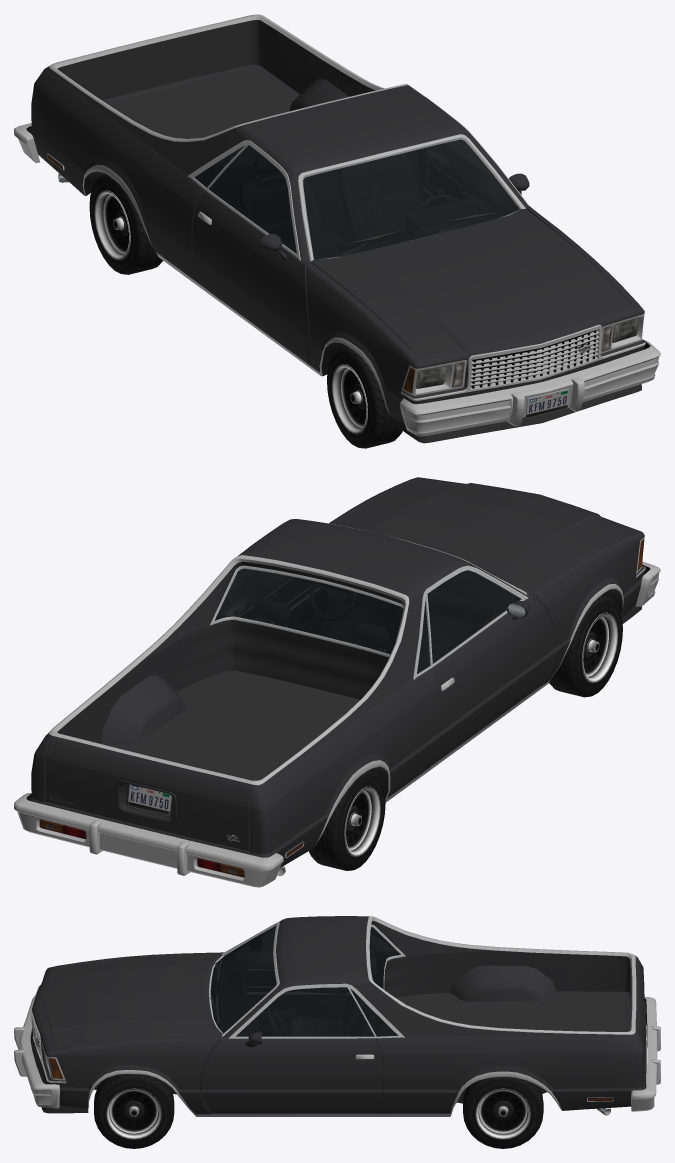
File: elalamo.glb
3 renders of one model, top to bottom at view 1: azimuth 30°, elevation 25°; view 2: azimuth 150°, elevation 25°; view 3: azimuth 270°, elevation 25°, orthographic. The views are drawn at different scales.
Visible parts, largest first — view 1: ElAlamo78_Body_ElAlamo78_Bodymat_0, ElAlamo78_Hood_ElAlamo78_Bodymat_0, ElAlamo78_Interior_UCB_Interiors_2_0, ElAlamo78_Bottom_UCB_BOTTOM_0, ElAlamo78_Windshield_UCB_Lights_and_Glass_Transperent_0, ElAlamo78_Bumper_Front_UCB_BOTTOM_0, ElAlamo78_Trunkdoor_ElAlamo78_Bodymat_0, wheel_FR, ElAlamo78_Glass_Driver001_UCB_Lights_and_Glass_Transperent_0, wheel_RR, ElAlamo78_Headlights_UCB_Lights_and_Glass_Transperent_0, ElAlamo78_Headlights001_UCB_Lights_and_Glass_0 (+2 smaller); view 2: ElAlamo78_Body_ElAlamo78_Bodymat_0, ElAlamo78_Hood_ElAlamo78_Bodymat_0, ElAlamo78_Interior_UCB_Interiors_2_0, ElAlamo78_Trunkdoor_ElAlamo78_Bodymat_0, ElAlamo78_Bottom_UCB_BOTTOM_0, ElAlamo78_Rear_Glass_UCB_Lights_and_Glass_Transperent_0, ElAlamo78_Bumper_Rear_UCB_BOTTOM_0, wheel_RR, ElAlamo78_Glass_Driver001_UCB_Lights_and_Glass_Transperent_0, wheel_FR, ElAlamo78_Trunkdoor_Inner_UCB_BOTTOM_0, ElAlamo78_Numberplate_Rear_Numberplates_Misk_U_0 (+1 smaller); view 3: ElAlamo78_Body_ElAlamo78_Bodymat_0, ElAlamo78_Hood_ElAlamo78_Bodymat_0, ElAlamo78_Interior_UCB_Interiors_2_0, ElAlamo78_Bottom_UCB_BOTTOM_0, wheel_FL, ElAlamo78_Glass_Driver_UCB_Lights_and_Glass_Transperent_0, wheel_RL, ElAlamo78_Windshield_UCB_Lights_and_Glass_Transperent_0, ElAlamo78_Bumper_Front_UCB_BOTTOM_0, ElAlamo78_Bumper_Rear_UCB_BOTTOM_0, ElAlamo78_Rear_Glass_UCB_Lights_and_Glass_Transperent_0, ElAlamo78_Trunkdoor_ElAlamo78_Bodymat_0 (+3 smaller).
Boxes of the visible parts, x1,y1,x2,y2 form: ElAlamo78_Body_ElAlamo78_Bodymat_0: (29, 20, 644, 423); ElAlamo78_Hood_ElAlamo78_Bodymat_0: (311, 209, 630, 356); ElAlamo78_Interior_UCB_Interiors_2_0: (195, 144, 519, 258); ElAlamo78_Bottom_UCB_BOTTOM_0: (46, 14, 645, 443); ElAlamo78_Windshield_UCB_Lights_and_Glass_Transperent_0: (303, 139, 519, 259); ElAlamo78_Bumper_Front_UCB_BOTTOM_0: (399, 339, 660, 436); ElAlamo78_Trunkdoor_ElAlamo78_Bodymat_0: (61, 20, 250, 100); wheel_FR: (327, 346, 402, 448); ElAlamo78_Glass_Driver001_UCB_Lights_and_Glass_Transperent_0: (209, 145, 296, 253); wheel_RR: (89, 174, 162, 274); ElAlamo78_Headlights_UCB_Lights_and_Glass_Transperent_0: (416, 317, 638, 388); ElAlamo78_Headlights001_UCB_Lights_and_Glass_0: (416, 318, 637, 388); ElAlamo78_Body_ElAlamo78_Bodymat_0: (29, 477, 644, 867); ElAlamo78_Hood_ElAlamo78_Bodymat_0: (334, 480, 630, 594); ElAlamo78_Interior_UCB_Interiors_2_0: (215, 571, 520, 673); ElAlamo78_Trunkdoor_ElAlamo78_Bodymat_0: (45, 736, 252, 851); ElAlamo78_Bottom_UCB_BOTTOM_0: (49, 522, 645, 876); ElAlamo78_Rear_Glass_UCB_Lights_and_Glass_Transperent_0: (215, 568, 403, 654); ElAlamo78_Bumper_Rear_UCB_BOTTOM_0: (14, 793, 283, 887); wheel_RR: (309, 770, 385, 870); ElAlamo78_Glass_Driver001_UCB_Lights_and_Glass_Transperent_0: (427, 570, 520, 663); wheel_FR: (549, 595, 622, 697); ElAlamo78_Trunkdoor_Inner_UCB_BOTTOM_0: (53, 733, 252, 823); ElAlamo78_Numberplate_Rear_Numberplates_Misk_U_0: (128, 784, 171, 815); ElAlamo78_Body_ElAlamo78_Bodymat_0: (31, 916, 646, 1114); ElAlamo78_Hood_ElAlamo78_Bodymat_0: (44, 954, 222, 1048); ElAlamo78_Interior_UCB_Interiors_2_0: (211, 926, 400, 1038); ElAlamo78_Bottom_UCB_BOTTOM_0: (30, 916, 635, 1116); wheel_FL: (94, 1074, 174, 1148); ElAlamo78_Glass_Driver_UCB_Lights_and_Glass_Transperent_0: (236, 987, 374, 1036); wheel_RL: (463, 1077, 543, 1148); ElAlamo78_Windshield_UCB_Lights_and_Glass_Transperent_0: (210, 926, 276, 1033); ElAlamo78_Bumper_Front_UCB_BOTTOM_0: (14, 996, 59, 1108); ElAlamo78_Bumper_Rear_UCB_BOTTOM_0: (631, 997, 660, 1111); ElAlamo78_Rear_Glass_UCB_Lights_and_Glass_Transperent_0: (369, 927, 400, 988); ElAlamo78_Trunkdoor_ElAlamo78_Bodymat_0: (630, 957, 644, 1078).
Bounding box in the file's own units: 1.94 × 1.4 × 5.2.
8 materials, 7 textured.
